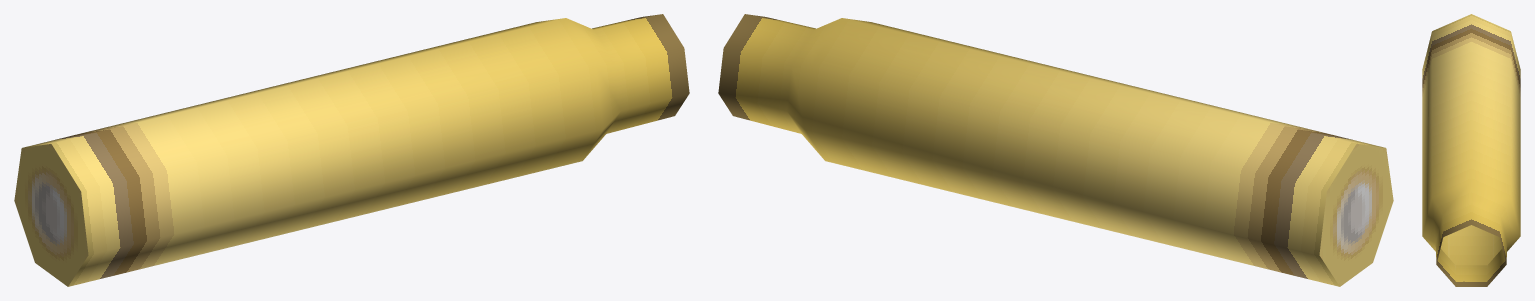
Rendered from 308Round_Spent.fbx.
3 renders of one model, left to right at view 1: azimuth 30°, elevation 25°; view 2: azimuth 150°, elevation 25°; view 3: azimuth 270°, elevation 25°, orthographic. The views are drawn at different scales.
Visible parts, largest first — view 1: 223556ammo; view 2: 223556ammo; view 3: 223556ammo.
Boxes of the visible parts, bbox=[...] form: 223556ammo: bbox=[14, 14, 689, 286]; 223556ammo: bbox=[718, 14, 1393, 286]; 223556ammo: bbox=[1422, 14, 1520, 286].
Size of the model in its own units: 0.104 by 0.0213 by 0.0219.
